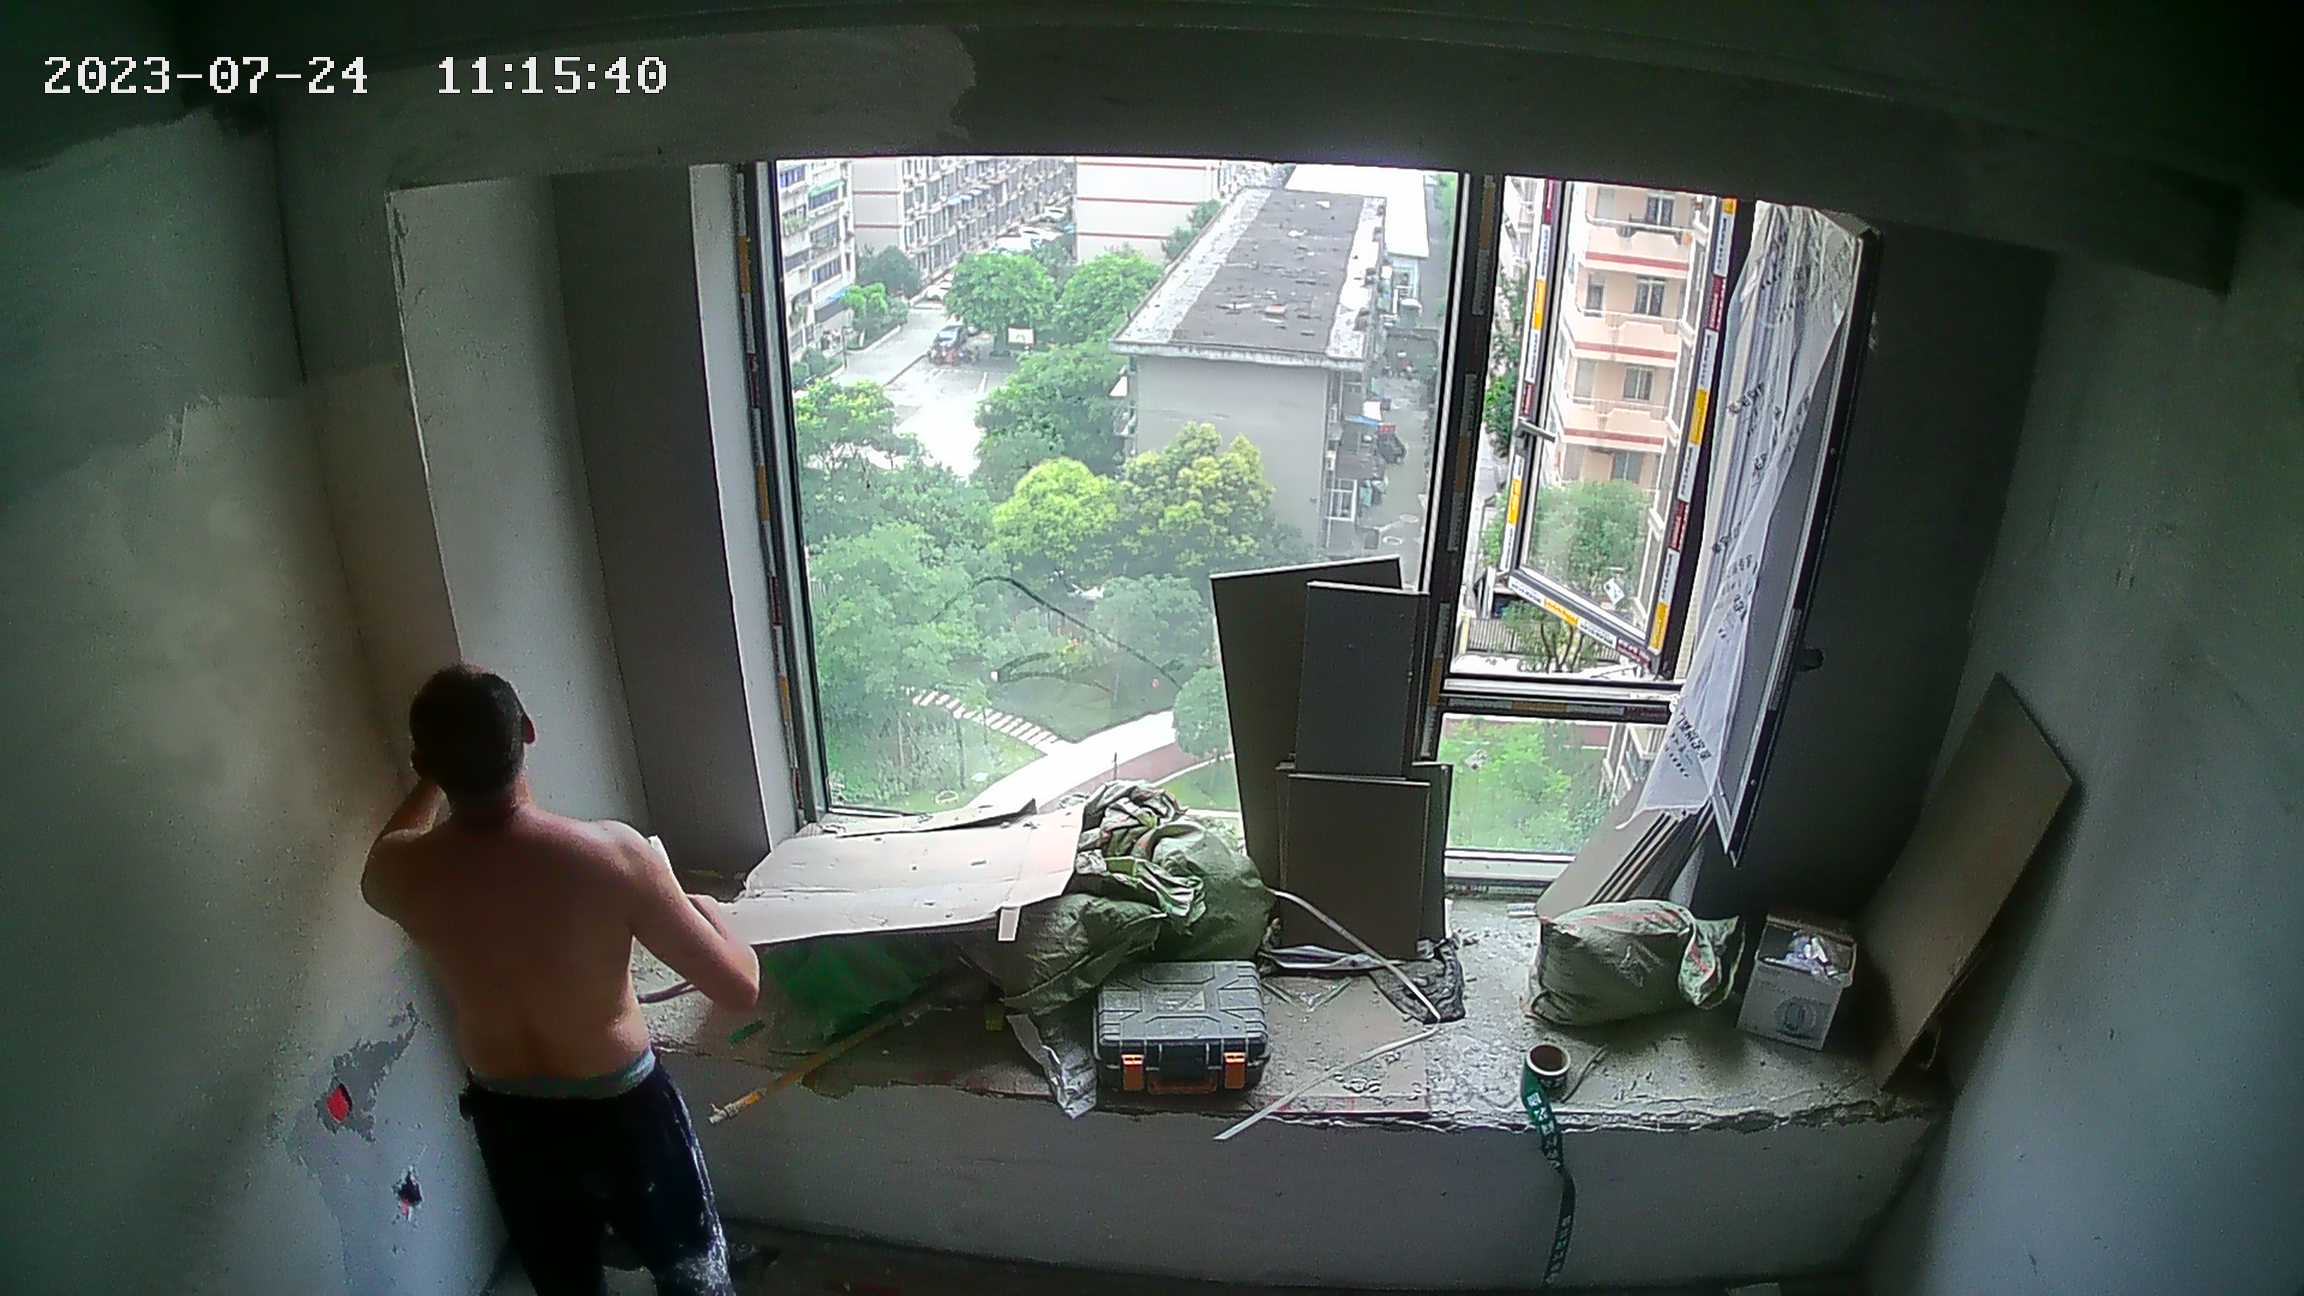people: (362, 668, 759, 1285)
window: (758, 162, 1741, 899)
